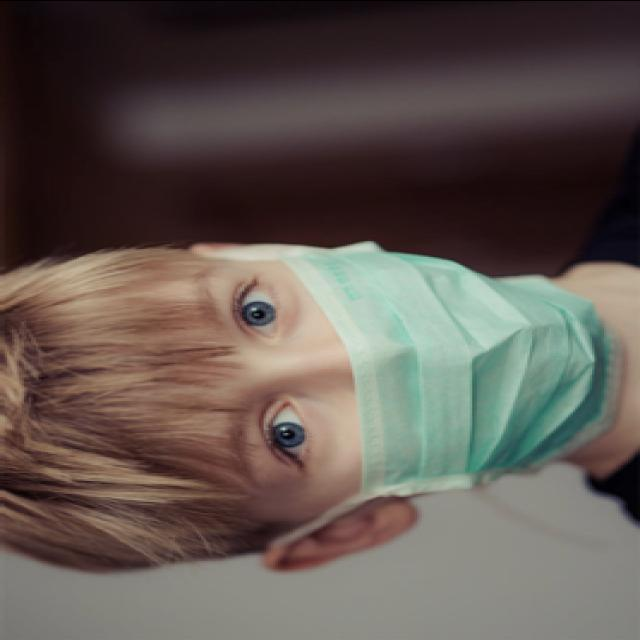mask: (185, 245, 590, 499)
